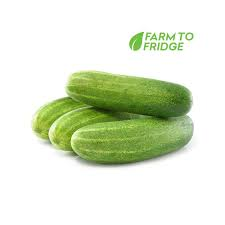cucumber: (32, 70, 192, 165)
